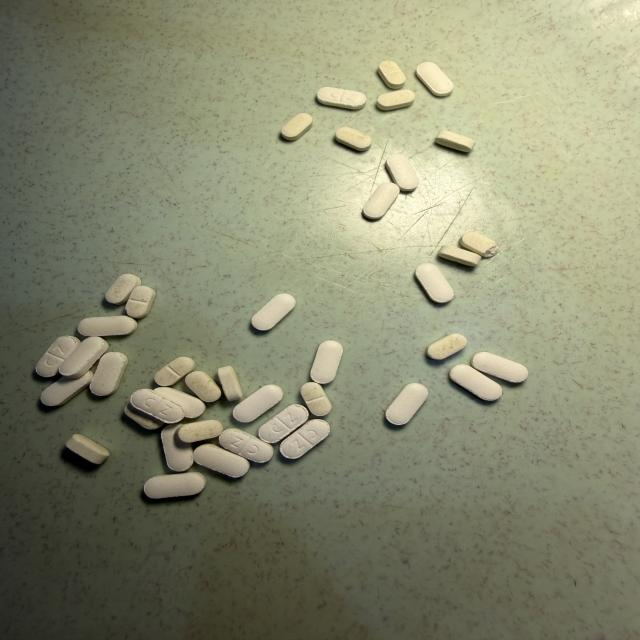pill: (59, 337, 108, 378), (280, 420, 330, 459), (219, 428, 273, 463), (450, 365, 502, 401), (259, 405, 308, 443), (40, 371, 93, 406), (130, 389, 184, 423), (194, 444, 249, 477), (233, 385, 282, 422), (36, 336, 80, 377), (472, 352, 528, 383), (386, 383, 427, 425), (144, 472, 206, 499), (90, 352, 127, 396), (154, 387, 205, 418), (252, 294, 295, 330), (416, 264, 454, 303), (161, 425, 193, 471), (311, 340, 343, 384), (363, 183, 399, 219), (66, 434, 109, 464), (417, 62, 453, 96), (386, 154, 419, 191), (78, 316, 137, 336), (155, 357, 195, 386), (185, 371, 221, 402), (105, 274, 141, 304), (125, 403, 165, 430), (317, 87, 366, 109), (178, 420, 223, 443), (301, 382, 331, 416), (427, 334, 467, 359), (459, 232, 498, 257), (126, 286, 155, 318), (336, 127, 372, 151), (438, 246, 481, 266), (218, 366, 242, 401), (435, 131, 475, 152), (281, 113, 312, 140), (378, 61, 406, 89), (378, 90, 415, 110)
